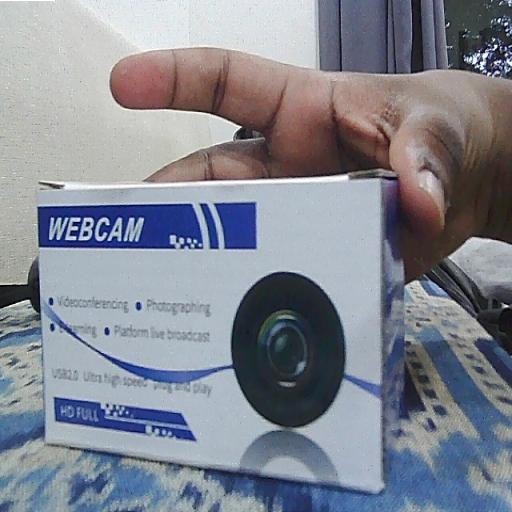webcam_box: (35, 171, 405, 497)
